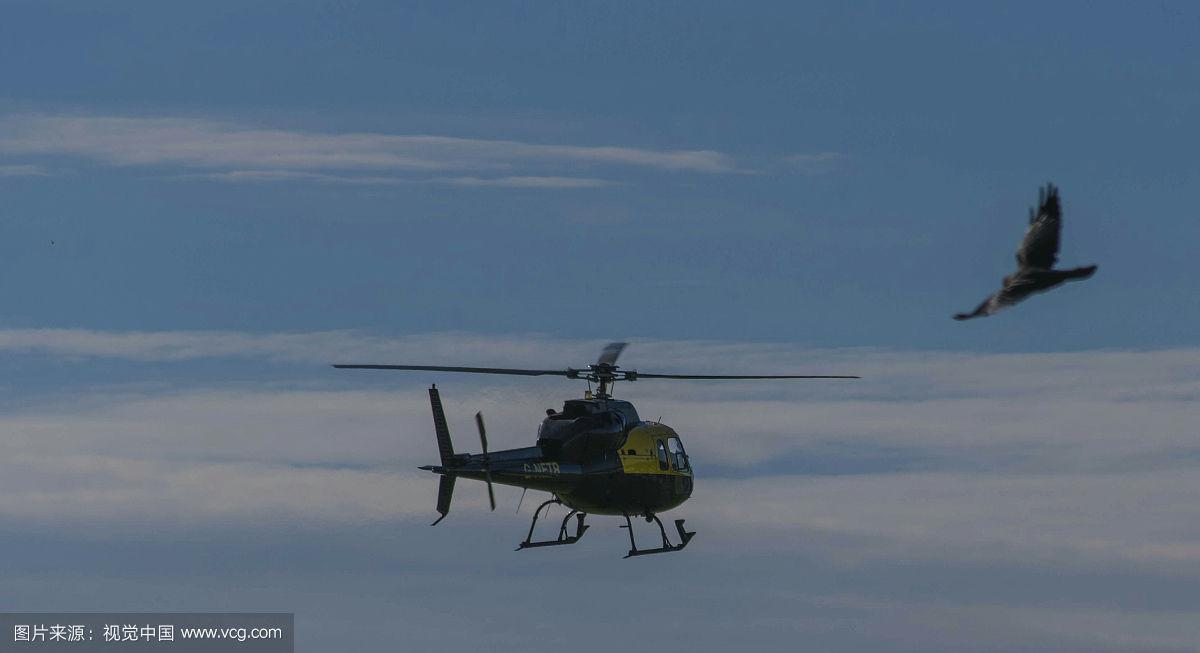airplane: (318, 341, 905, 550)
bird: (954, 184, 1104, 328)
